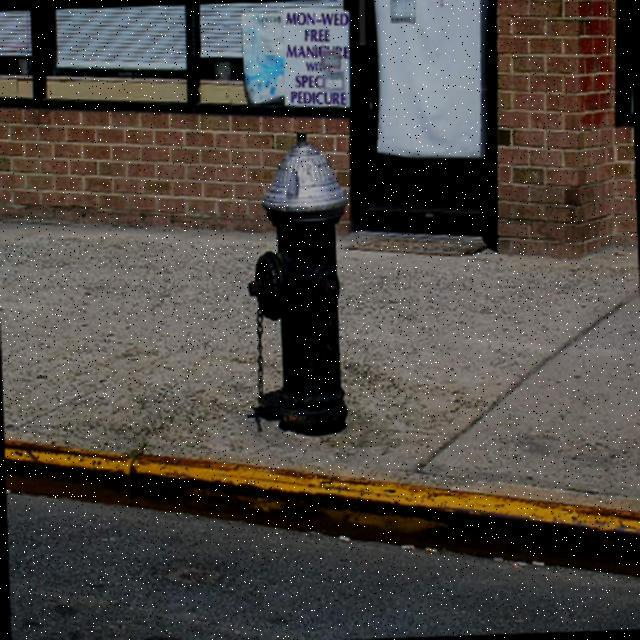fire_hydrant: (243, 126, 359, 432)
